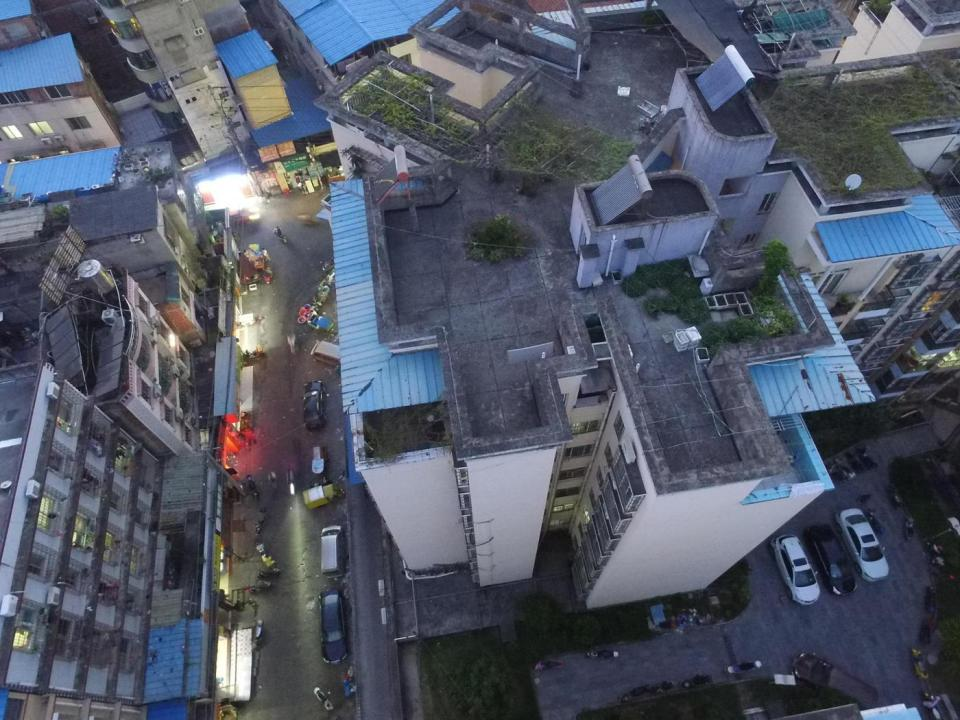car: (790, 651, 876, 710), (835, 508, 889, 582), (803, 524, 857, 596), (770, 534, 820, 606), (317, 588, 349, 666), (301, 380, 327, 431)
van: (320, 524, 345, 578), (309, 340, 341, 366)
